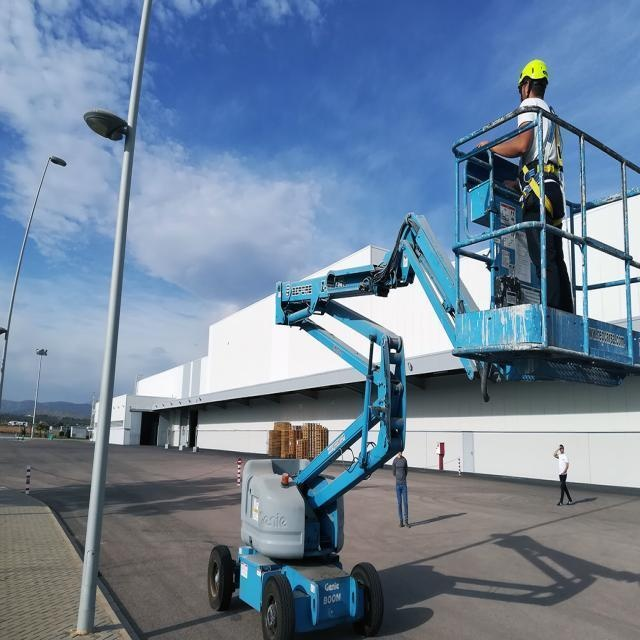Arnes_seguridad: (521, 99, 564, 227)
